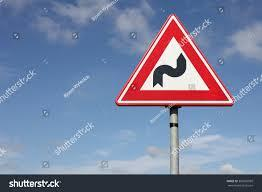double_bend_right: (114, 12, 233, 105)
